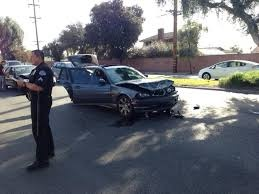Smashed: (135, 79, 179, 109)
